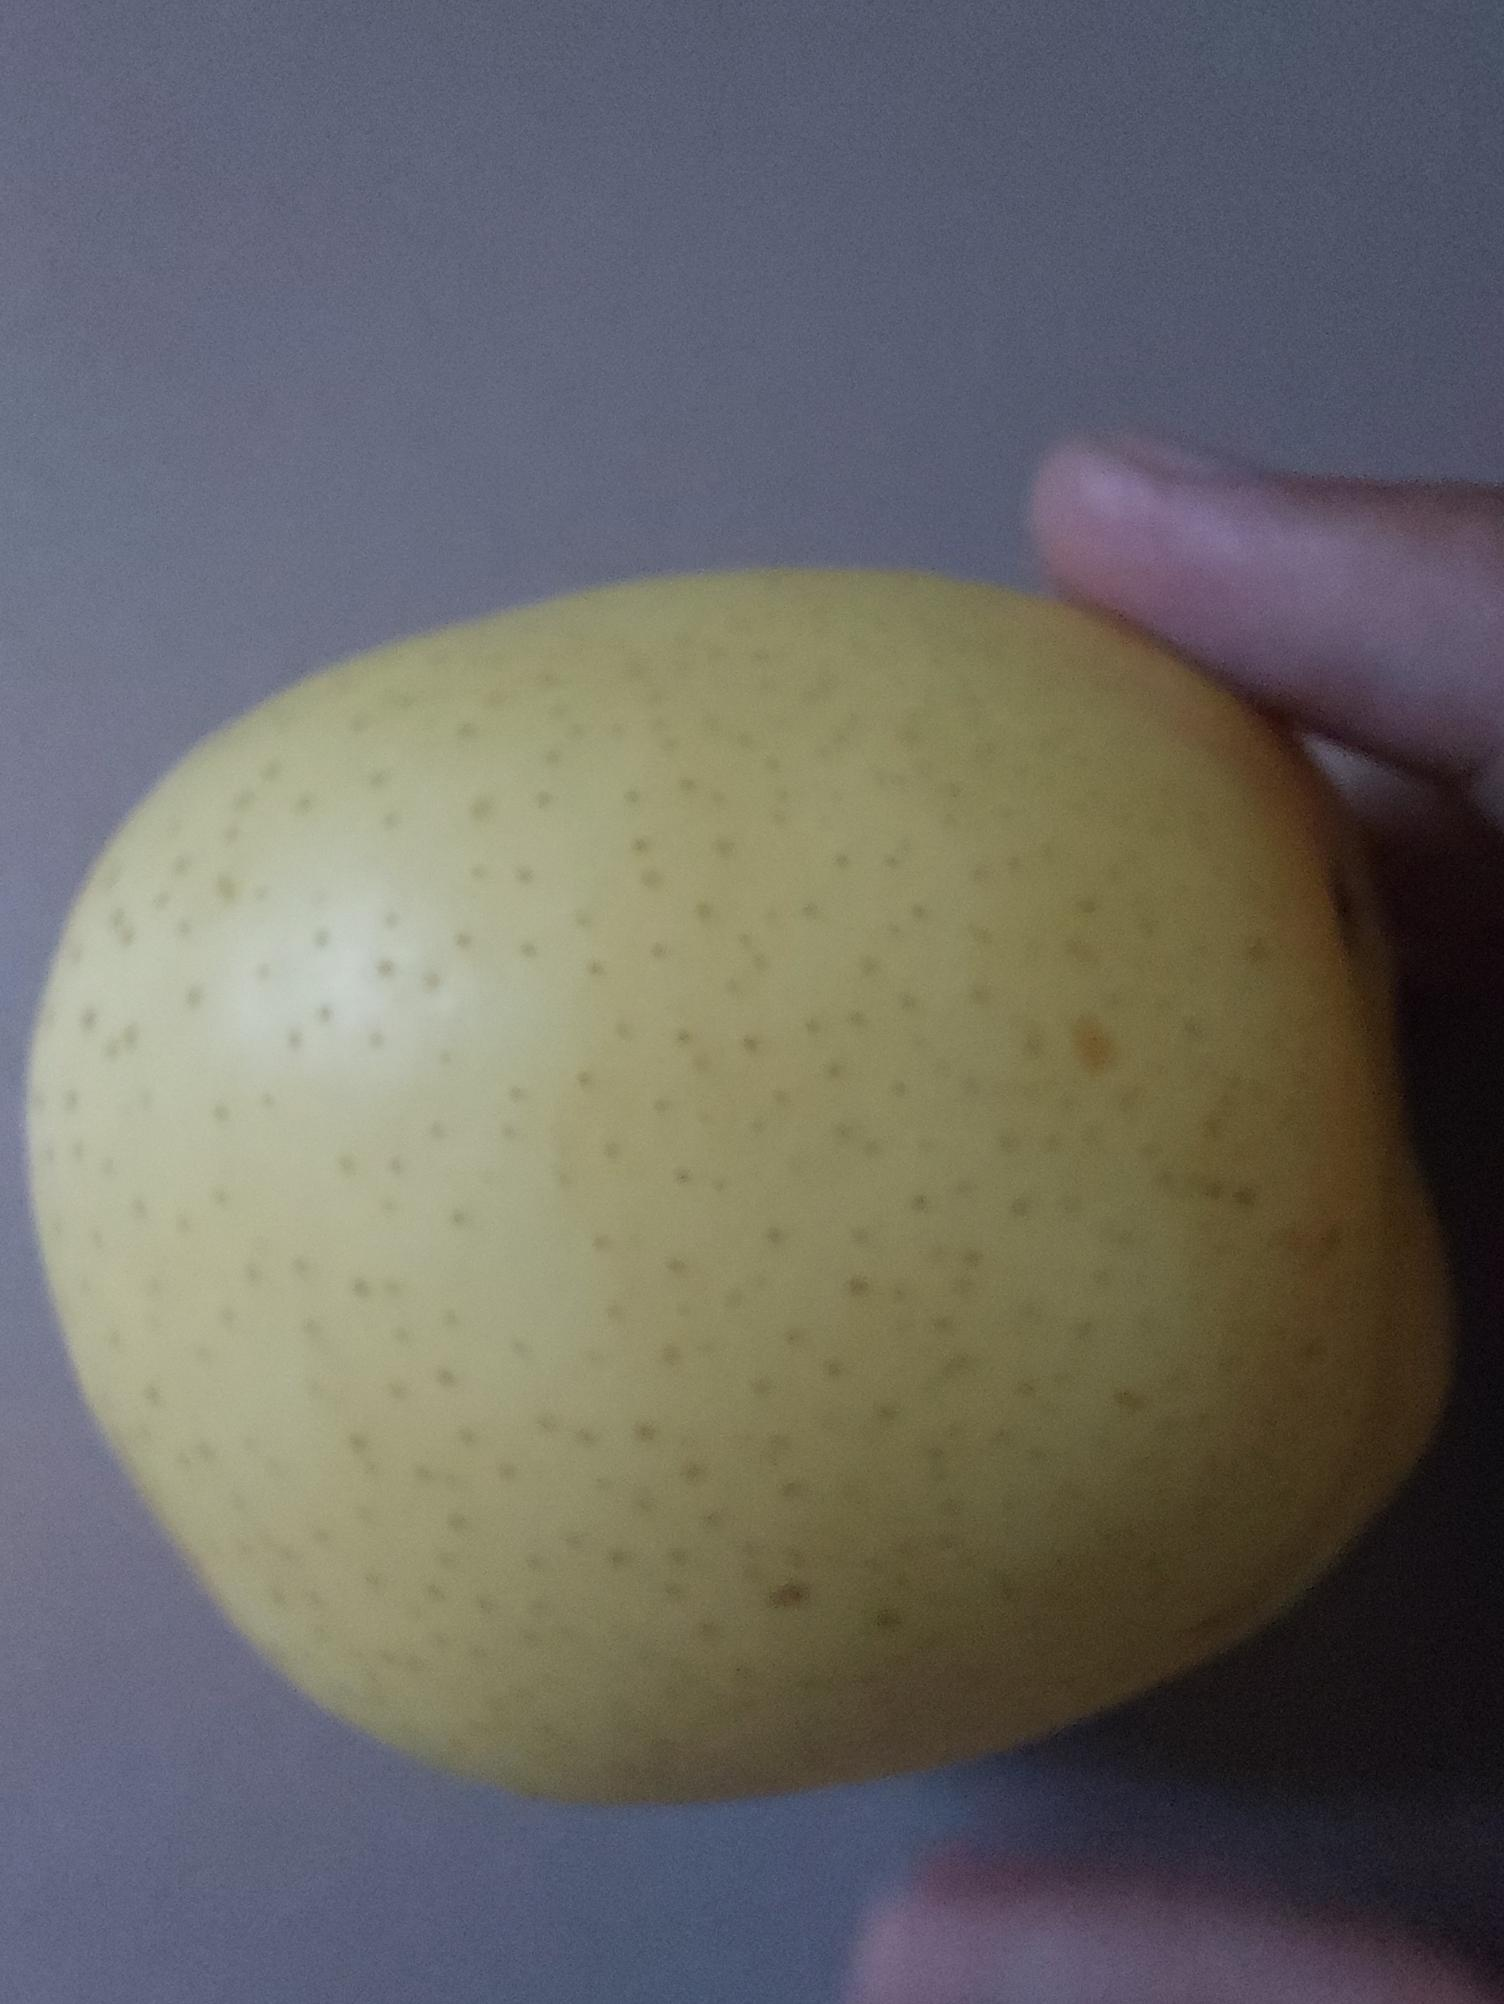Good Pear: (15, 564, 1450, 1802)
